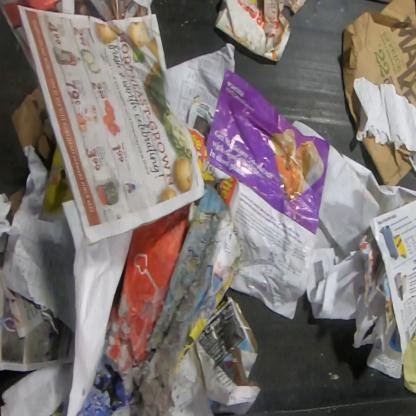cardboard: (342, 0, 415, 133), (214, 0, 292, 62), (11, 87, 57, 173), (361, 133, 412, 187)
